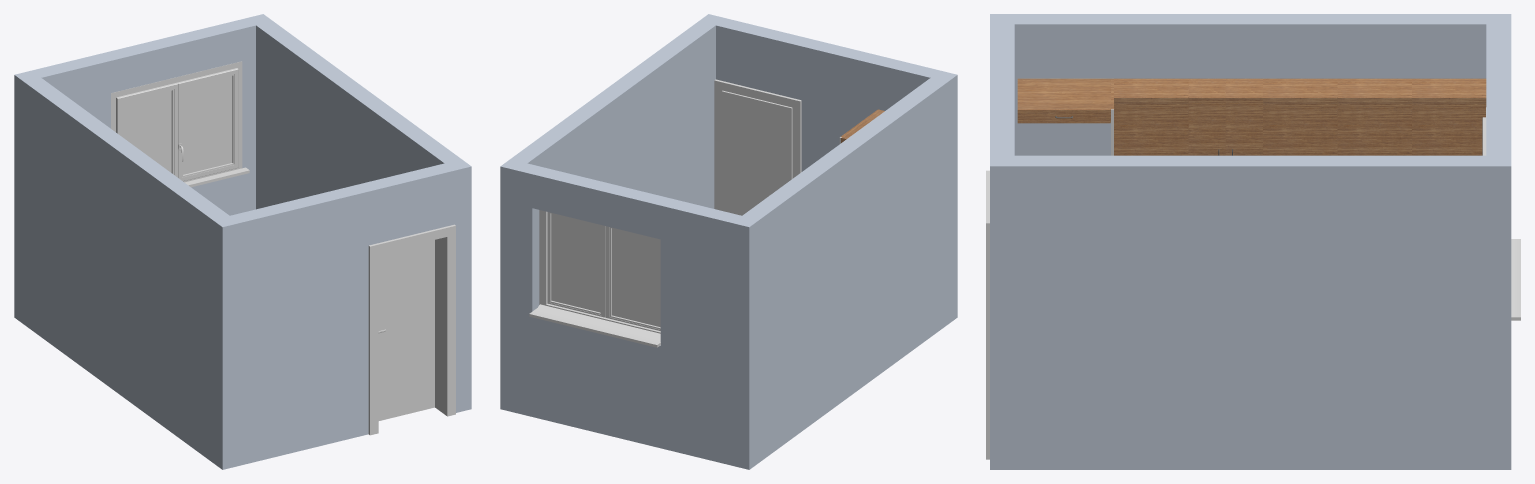
File: oda.fbx
3 views of the same model, side by side, from view 1: azimuth 30°, elevation 25°; view 2: azimuth 150°, elevation 25°; view 3: azimuth 270°, elevation 25° (orthographic). The views are drawn at different scales.
Visible parts, largest first — view 1: Wall, Panel, Door, Window Panel, Window Panel.001, Window; view 2: Wall, Panel, Window Panel, Window Panel.001, Window, Door; view 3: Wall, Cabinet1_Door.003, Cabinet1_Door.005, Cabinet1_Door.002, Cabinet2_Door.003, Cabinet3.003, Cabinet1_Door.004, Cabinet2_Door.004, Cabinet1.003, Cabinet1.005, Cabinet2.003, Cabinet1.002 (+5 smaller).
Part boxes in pixels (bbox=[...]): Wall: bbox=[14, 14, 471, 469]; Panel: bbox=[378, 240, 434, 420]; Door: bbox=[368, 224, 455, 435]; Window Panel: bbox=[177, 68, 238, 181]; Window Panel.001: bbox=[116, 82, 177, 177]; Window: bbox=[111, 61, 249, 187]; Wall: bbox=[500, 14, 957, 469]; Panel: bbox=[722, 90, 792, 215]; Window Panel: bbox=[547, 212, 605, 317]; Window Panel.001: bbox=[605, 226, 660, 330]; Window: bbox=[529, 210, 660, 347]; Door: bbox=[714, 79, 801, 210]; Wall: bbox=[990, 14, 1511, 469]; Cabinet1_Door.003: bbox=[1114, 97, 1188, 155]; Cabinet1_Door.005: bbox=[1263, 97, 1337, 155]; Cabinet1_Door.002: bbox=[1337, 97, 1411, 155]; Cabinet2_Door.003: bbox=[1412, 97, 1486, 155]; Cabinet3.003: bbox=[1017, 78, 1110, 121]; Cabinet1_Door.004: bbox=[1188, 97, 1225, 155]; Cabinet2_Door.004: bbox=[1225, 97, 1262, 155]; Cabinet1.003: bbox=[1114, 78, 1188, 155]; Cabinet1.005: bbox=[1263, 78, 1337, 155]; Cabinet2.003: bbox=[1412, 78, 1486, 96]; Cabinet1.002: bbox=[1337, 78, 1411, 96].
Size of the model in its own units: 290 by 270 by 431.
